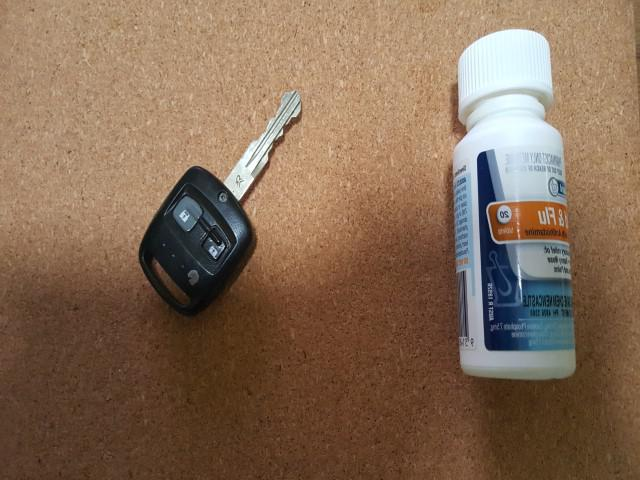key: (136, 89, 304, 304)
